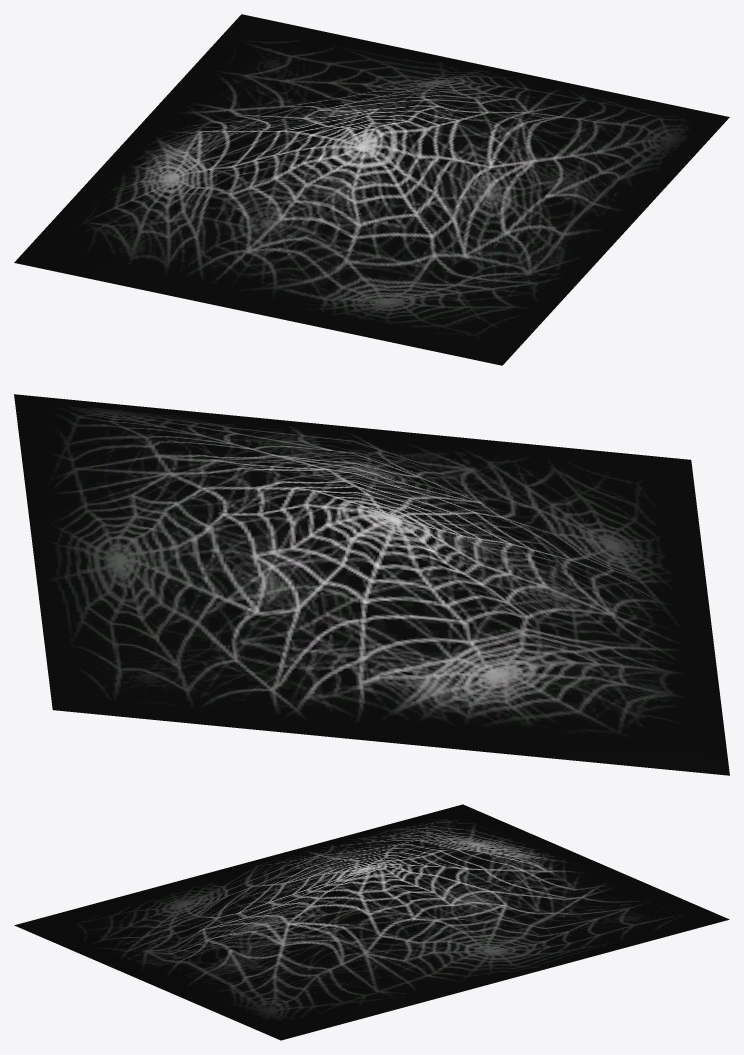
The model's file is MIRKWOOD_PLANE55.fbx.
3 views of the same model, one above another, from view 1: azimuth 30°, elevation 25°; view 2: azimuth 150°, elevation 25°; view 3: azimuth 270°, elevation 25° (orthographic). The views are drawn at different scales.
Parts seen in each view (by area): view 1: MIRKWOOD_PLANE55; view 2: MIRKWOOD_PLANE55; view 3: MIRKWOOD_PLANE55.
Boxes of the visible parts, x1,y1,x2,y2 form: MIRKWOOD_PLANE55: (14,14,729,365); MIRKWOOD_PLANE55: (14,394,729,775); MIRKWOOD_PLANE55: (14,804,729,1040).
Bounding box in the file's own units: 153018 × 20829 × 156025.
Materials: 1 (1 with a texture image).
